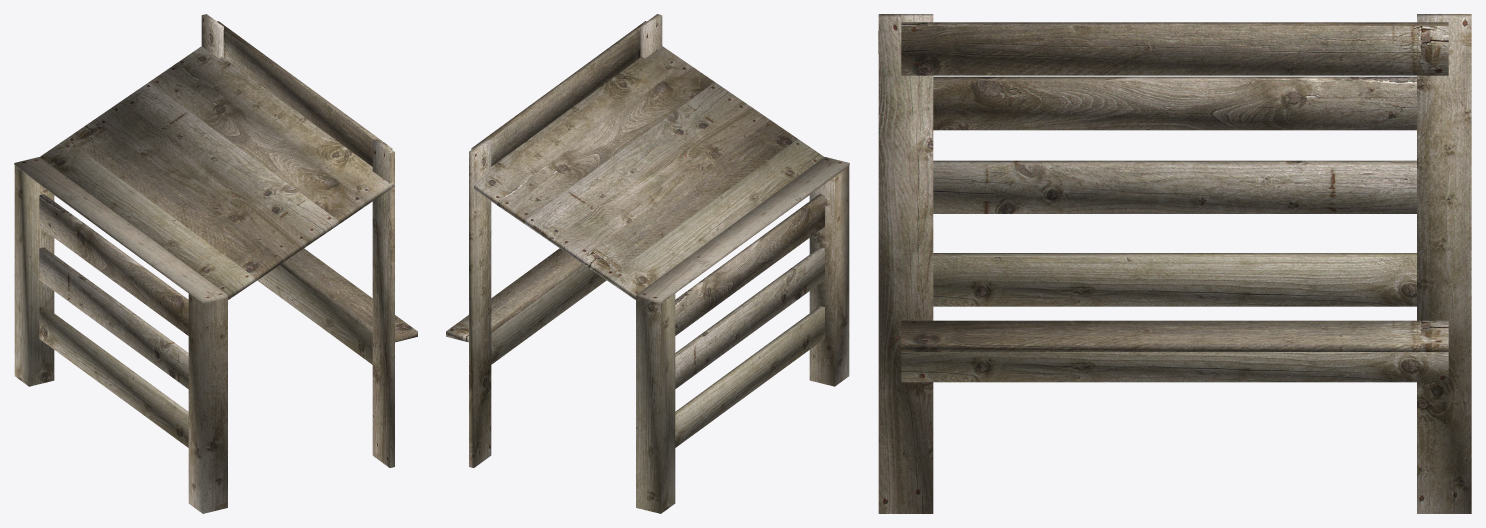
The model's file is phx_staticobjects2.fbx.
The picture shows the model from 3 angles, left to right: view 1: azimuth 30°, elevation 25°; view 2: azimuth 150°, elevation 25°; view 3: azimuth 270°, elevation 25°; orthographic projection. The views are drawn at different scales.
Parts seen in each view (by area): view 1: Market Shag; view 2: Market Shag; view 3: Market Shag.
Boxes of the visible parts, box(x1,y1,x2,y2) form: Market Shag: box(14, 14, 417, 513); Market Shag: box(446, 14, 849, 513); Market Shag: box(878, 14, 1471, 513).
Bounding box in the file's own units: 222 × 300 × 325.
